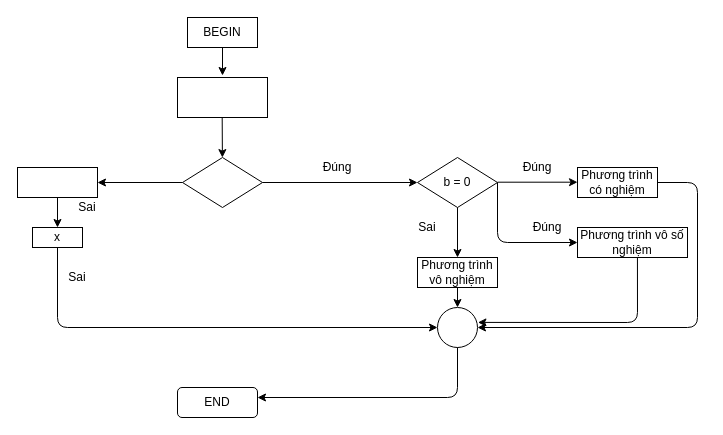
Some shapes in this 723 by 435 pixel diagram are drawn without their labels. Each missing label, with the centre of its shape:
"a = 0" belongs at (222,182).
"int a, b" belongs at (222,97).
"x = -b/a" belongs at (57,182).
